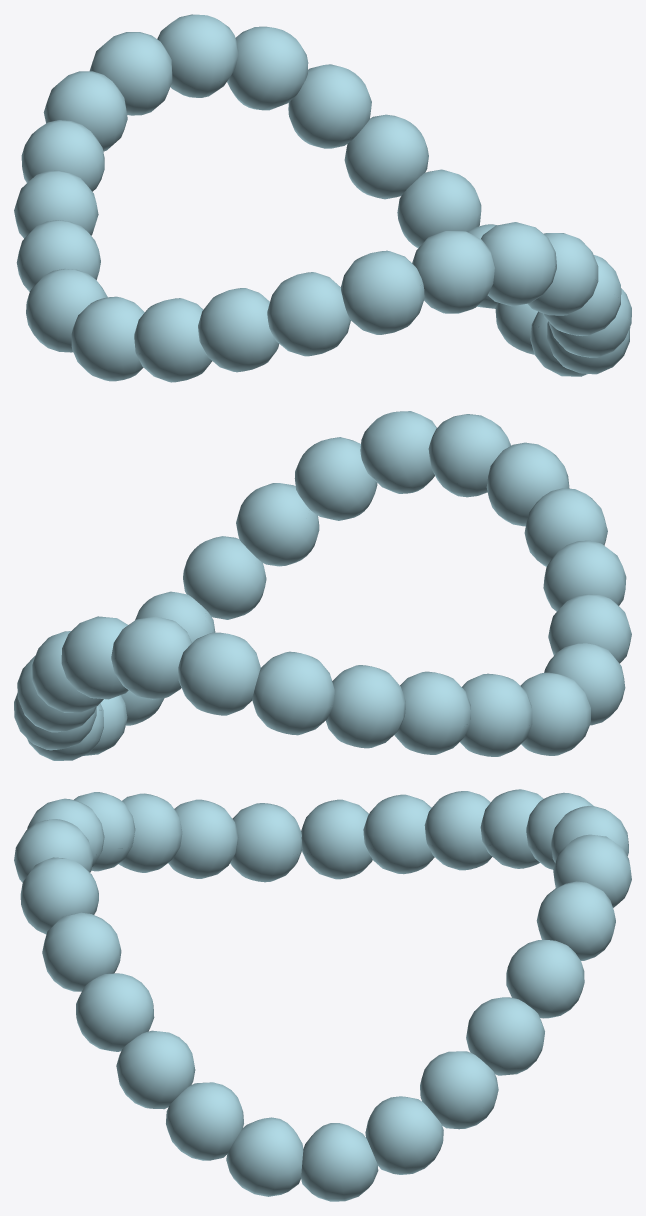
File: necklace 2.fbx
3 views of the same model, one above another, from view 1: azimuth 30°, elevation 25°; view 2: azimuth 150°, elevation 25°; view 3: azimuth 270°, elevation 25° (orthographic). The views are drawn at different scales.
Parts seen in each view (by area): view 1: PearlNecklace; view 2: PearlNecklace; view 3: PearlNecklace.
Part boxes in pixels (x1,y1,x2,y2): PearlNecklace: (14,14,631,382); PearlNecklace: (14,411,631,760); PearlNecklace: (14,789,631,1201).
Bounding box in the file's own units: 33.19 × 15.83 × 31.53.
